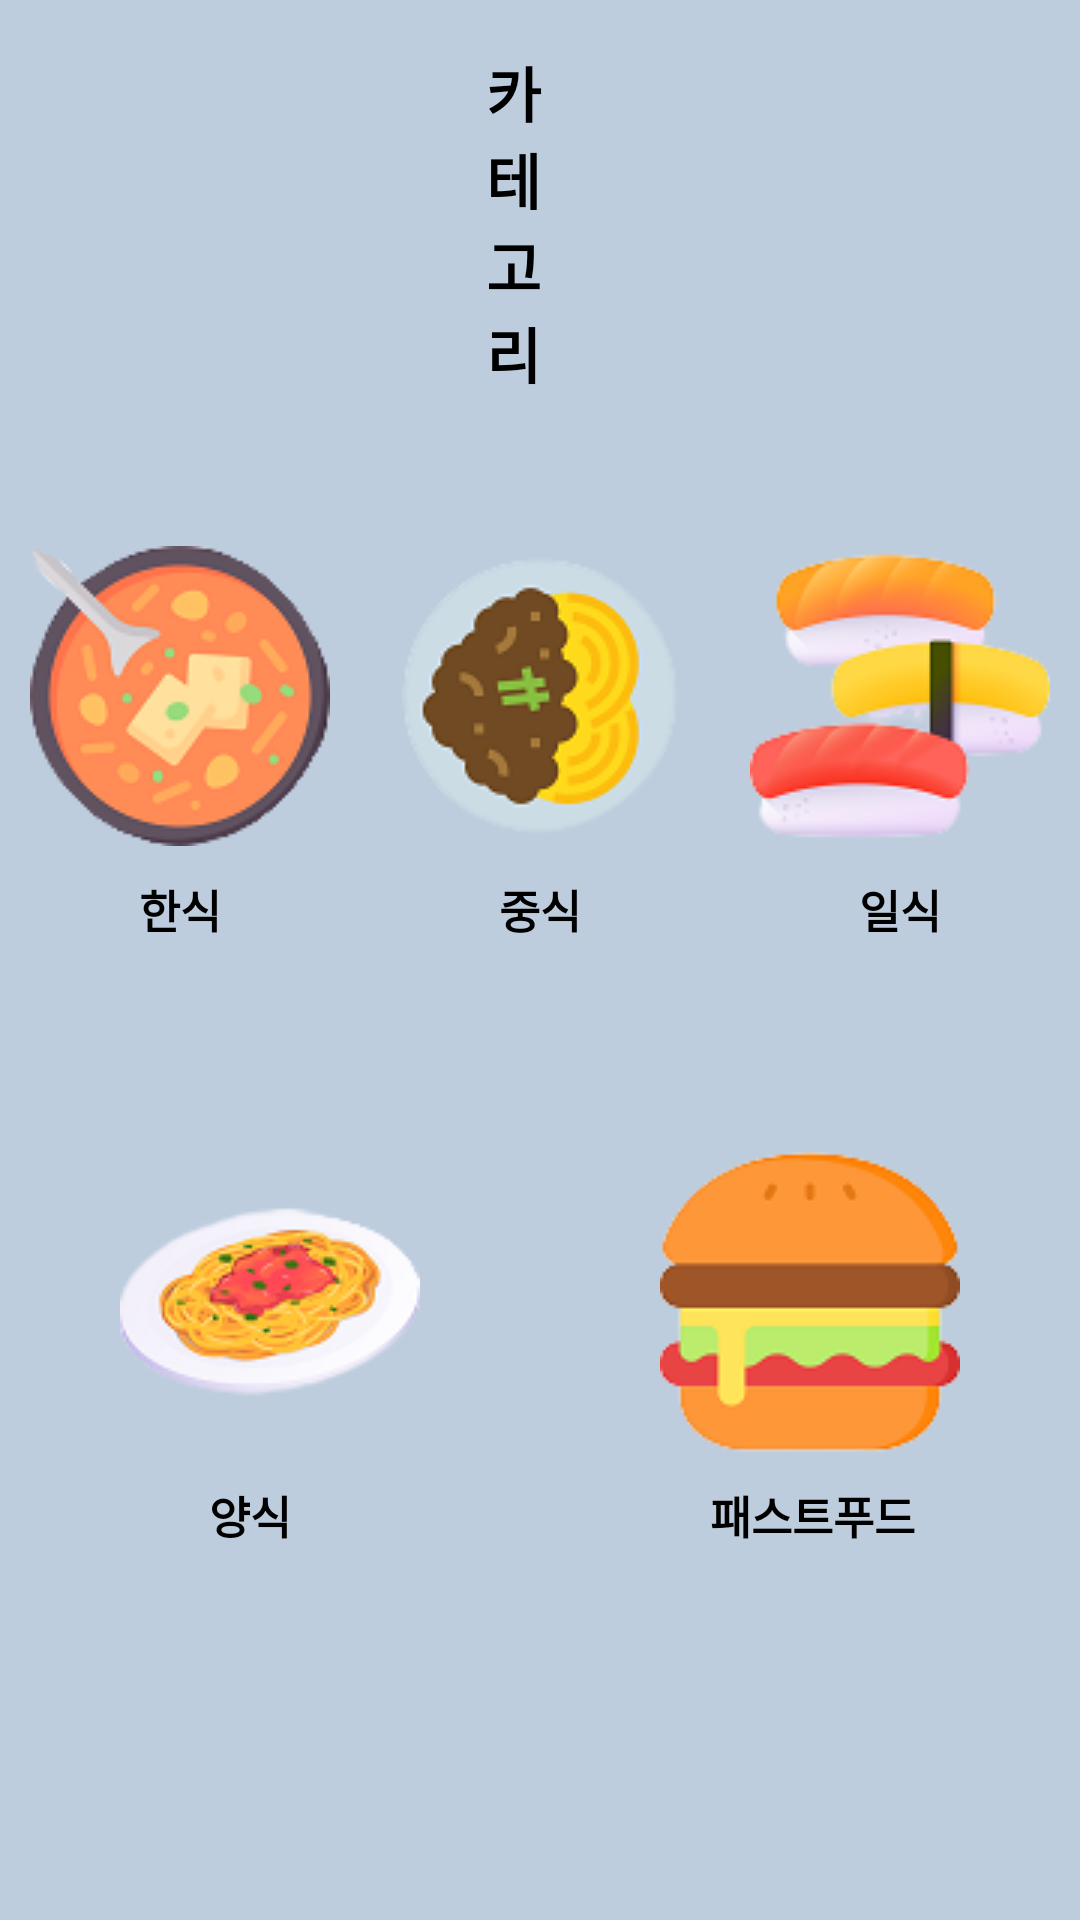

Icon bounding boxes for this 1080w x 1920h phone screenshot, format (x1, y1, x2, y2):
hamburger: (660, 1152, 960, 1452)
jajangmyeon: (420, 585, 641, 807)
kimchisoup: (30, 546, 330, 846)
spaghetti: (120, 1209, 420, 1392)
sushi: (750, 554, 1050, 836)
